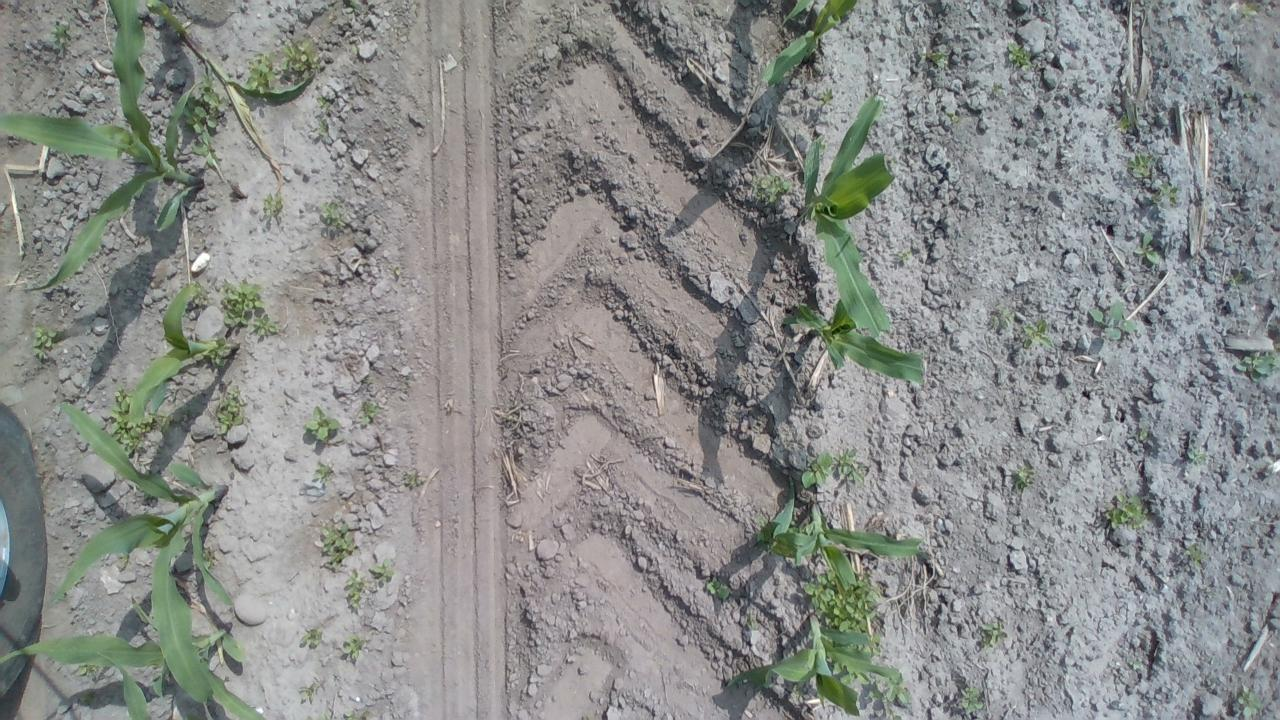Maize: (0, 0, 203, 291), (50, 399, 228, 702), (0, 593, 270, 720), (799, 93, 898, 338), (724, 613, 901, 718), (762, 492, 922, 604), (126, 282, 221, 422), (781, 296, 926, 386), (758, 0, 858, 89), (96, 650, 213, 720)
Weeds: (802, 569, 881, 632), (179, 74, 231, 165), (108, 386, 153, 457), (801, 448, 866, 488), (220, 280, 266, 326), (1088, 301, 1136, 340), (1103, 493, 1148, 530), (320, 523, 356, 568), (242, 52, 280, 94), (278, 40, 321, 73), (303, 406, 341, 442), (1234, 352, 1279, 382), (869, 671, 910, 703), (217, 386, 244, 434), (752, 173, 793, 204), (832, 632, 882, 656), (830, 660, 870, 686), (31, 326, 61, 359), (1021, 317, 1050, 348), (1134, 233, 1160, 264), (1238, 686, 1263, 718), (1008, 42, 1034, 72), (346, 569, 366, 608), (980, 622, 1009, 648), (208, 338, 231, 368), (754, 514, 774, 548), (1150, 182, 1178, 206), (960, 686, 984, 714), (988, 304, 1015, 328), (320, 200, 344, 226), (1124, 154, 1152, 176), (706, 576, 730, 600), (342, 634, 364, 660), (262, 192, 284, 216), (370, 558, 394, 580), (251, 314, 276, 335), (921, 50, 948, 69), (1186, 544, 1210, 565), (1014, 465, 1034, 490), (49, 24, 72, 45), (311, 461, 332, 484), (300, 628, 324, 646), (192, 280, 210, 304), (362, 401, 379, 426), (76, 663, 98, 681), (402, 472, 427, 487), (1188, 449, 1208, 465), (1240, 0, 1260, 16), (314, 118, 330, 138), (156, 410, 170, 432), (1116, 114, 1130, 134), (300, 684, 317, 700), (342, 710, 368, 720), (819, 89, 833, 106), (78, 691, 96, 704), (200, 550, 213, 568), (306, 711, 330, 720), (345, 0, 361, 13), (316, 96, 332, 108), (886, 709, 903, 720), (790, 686, 804, 698), (184, 713, 206, 720), (898, 251, 912, 262), (1230, 273, 1242, 285), (118, 552, 128, 565), (818, 134, 826, 150), (948, 110, 958, 122), (1139, 428, 1148, 440), (746, 618, 756, 628), (1130, 660, 1140, 670), (992, 86, 1002, 94)
